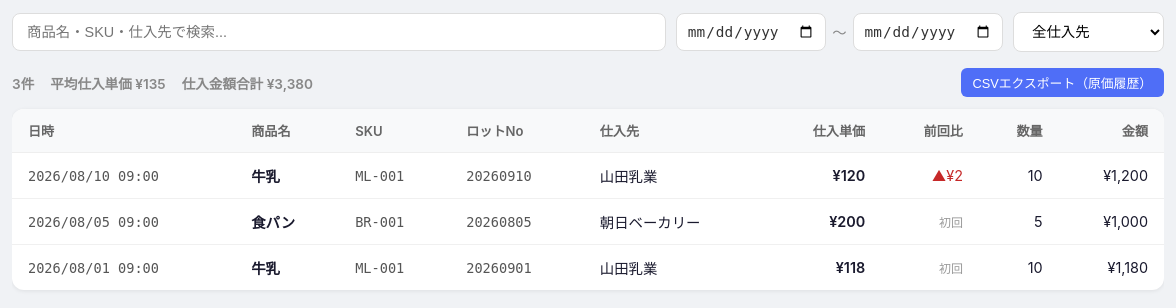
CostHistoryView — 絞り込み › 一致する記録がないときはテーブルの代わりに案内文を出す
The width and height of the screenshot is (1176, 308).
Type "チーズ" into the field with placeholder "商品名・SKU・仕入先で検索...". click: (339,32)
box: [12,13,666,51]
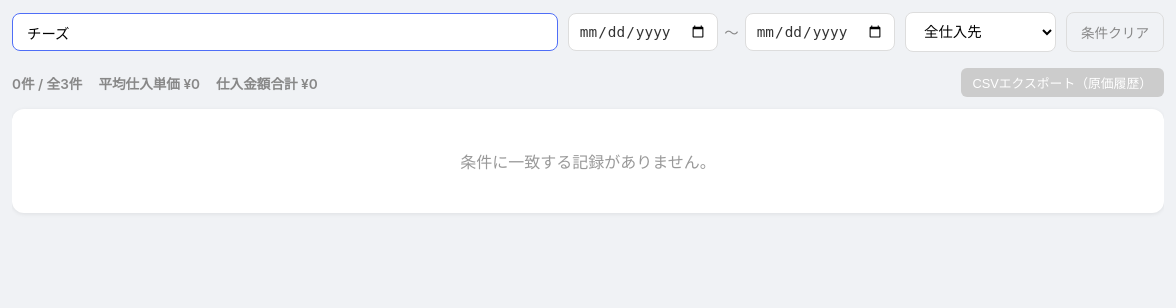
Expected: the table is gone
Expected: the text "条件に一致する記録がありません。" is shown, [460,152,716,172]
